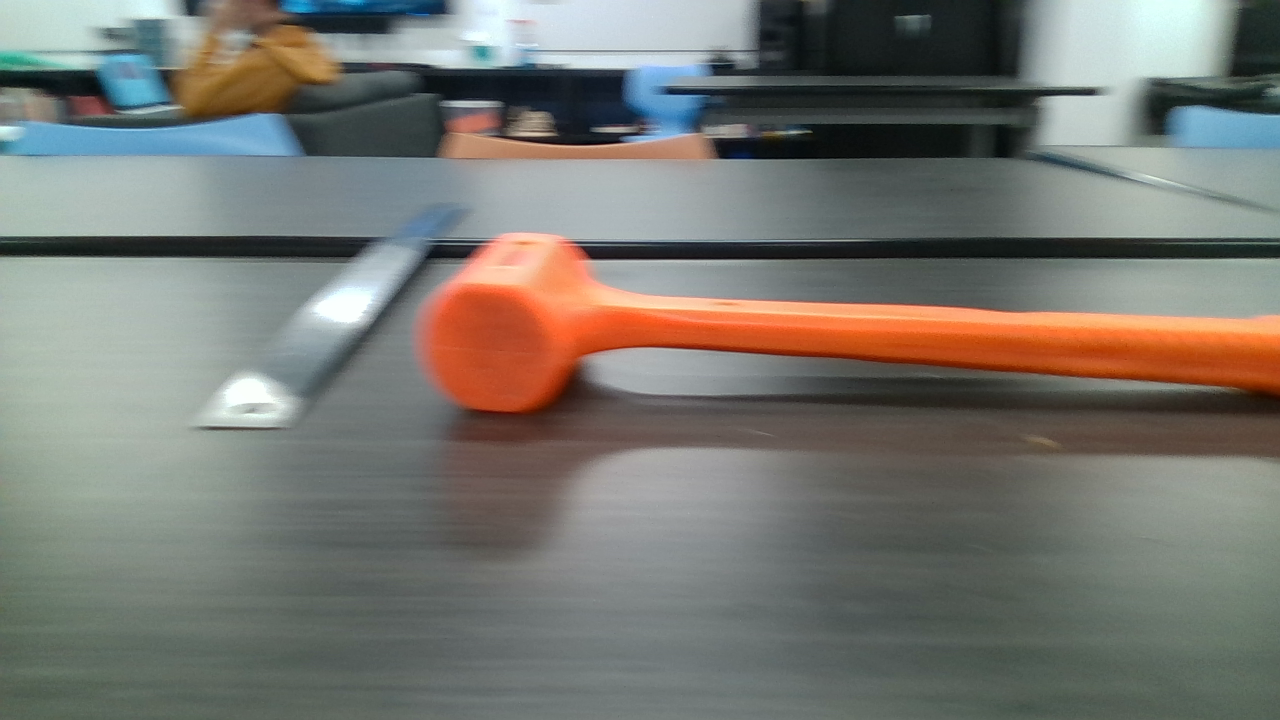Orange Hammer: (429, 231, 1266, 419)
